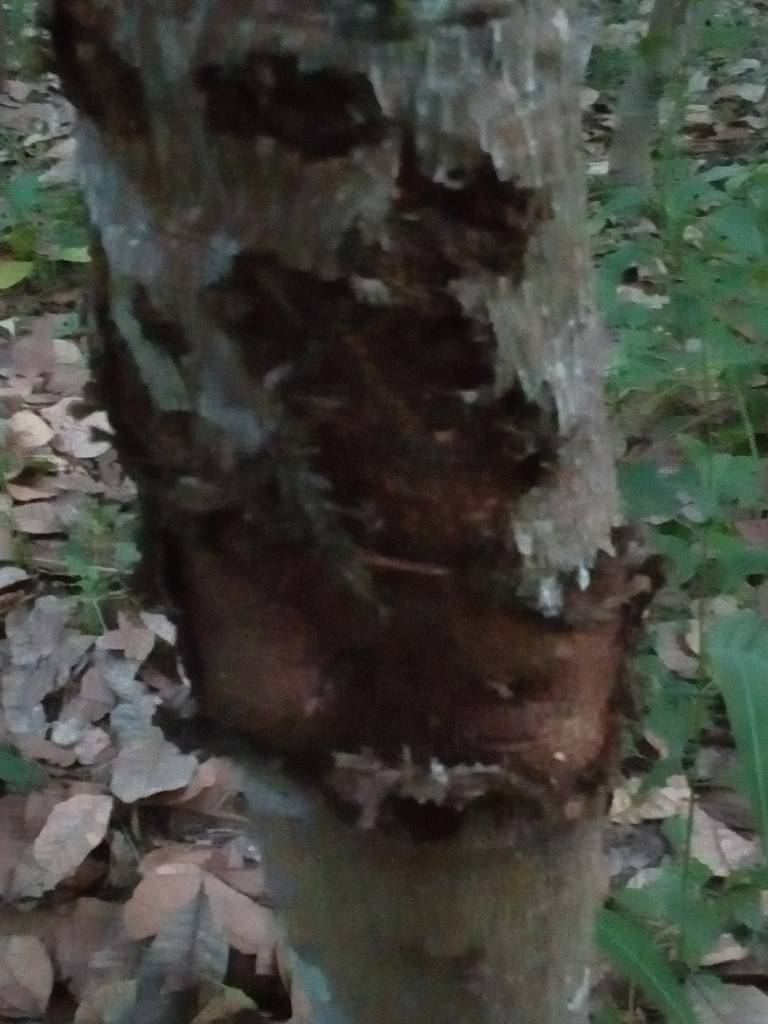ploceadorus ferrugineus: (97, 218, 680, 914)
